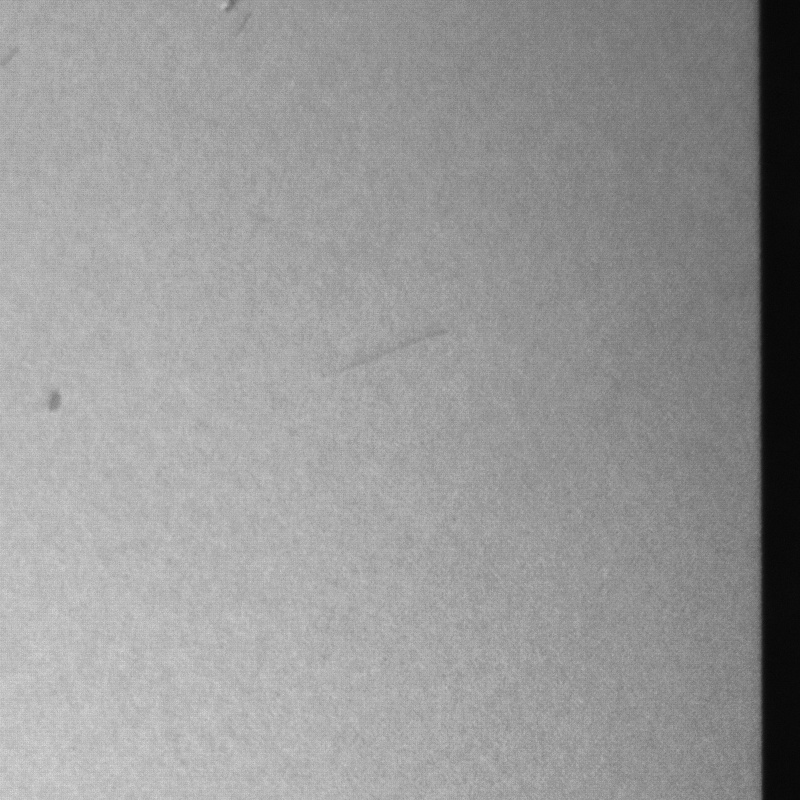defect: (325, 329, 444, 379), (221, 1, 255, 34), (45, 387, 65, 414), (2, 46, 21, 63)
